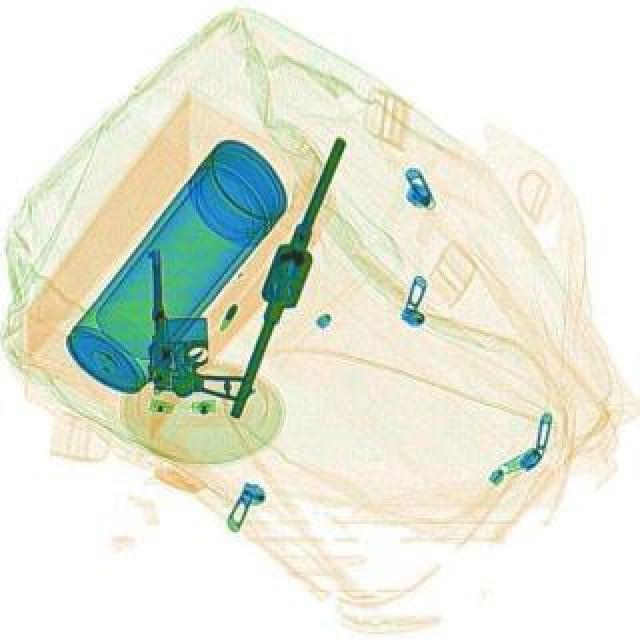gun: (144, 248, 248, 398)
